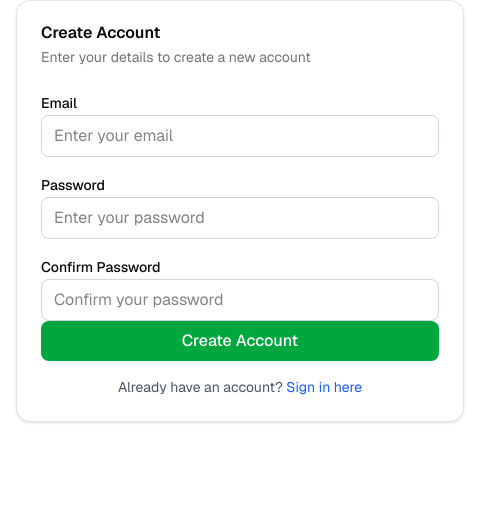
Authentication Tests › SignupForm Component › displays validation errors for empty fields
Click the button "Create Account": click(240, 341) [41, 321, 439, 361]
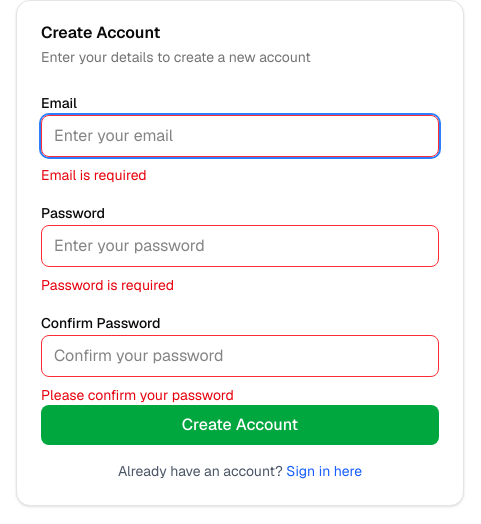
Expected: the text "Email is required" is shown, [41, 166, 147, 184]
Expected: the text "Password is required" is shown, [41, 276, 174, 294]
Expected: the text "Please confirm your password" is shown, [41, 386, 234, 404]
